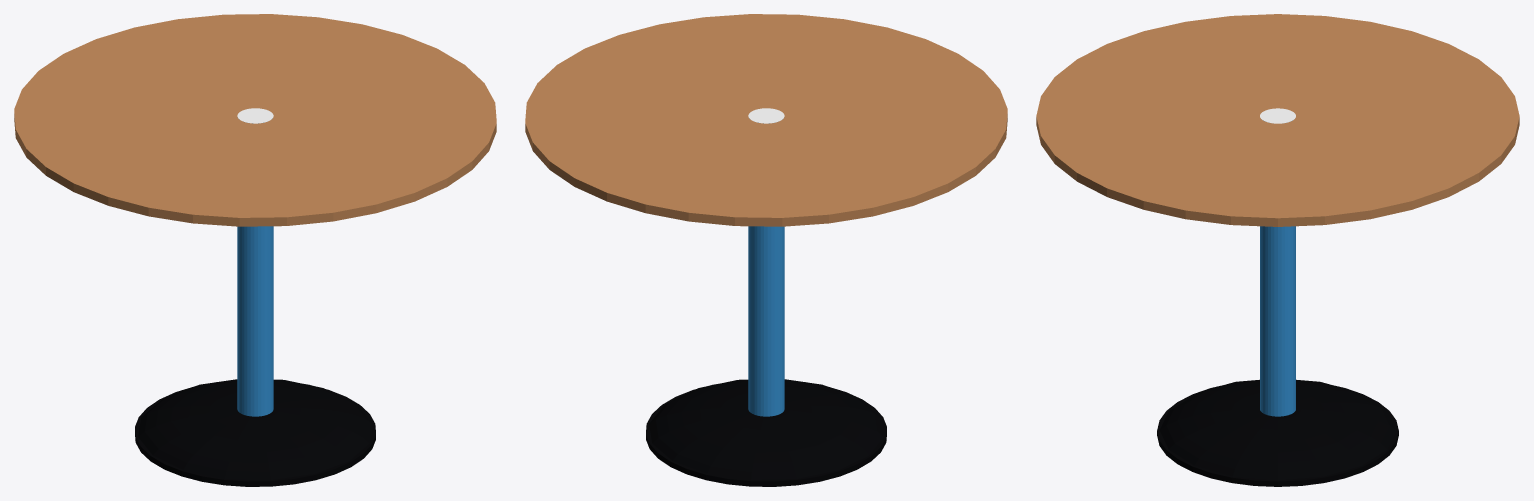
The model's file is Table V2.fbx.
The picture shows the model from 3 angles, left to right: view 1: azimuth 30°, elevation 25°; view 2: azimuth 150°, elevation 25°; view 3: azimuth 270°, elevation 25°; orthographic projection.
Parts seen in each view (by area): view 1: tabletop, base2, leg, base; view 2: tabletop, base2, leg, base; view 3: tabletop, base2, leg, base.
Boxes of the visible parts, left/top/right/bottom form: tabletop: left=14, top=14, right=496, bottom=226; base2: left=138, top=379, right=372, bottom=479; leg: left=237, top=108, right=273, bottom=416; base: left=135, top=384, right=375, bottom=486; tabletop: left=525, top=14, right=1007, bottom=226; base2: left=649, top=379, right=883, bottom=479; leg: left=748, top=108, right=784, bottom=416; base: left=646, top=384, right=886, bottom=486; tabletop: left=1036, top=14, right=1519, bottom=226; base2: left=1159, top=379, right=1396, bottom=480; leg: left=1260, top=108, right=1295, bottom=416; base: left=1157, top=385, right=1398, bottom=486.
Size of the model in its own units: 400 by 292 by 400.
